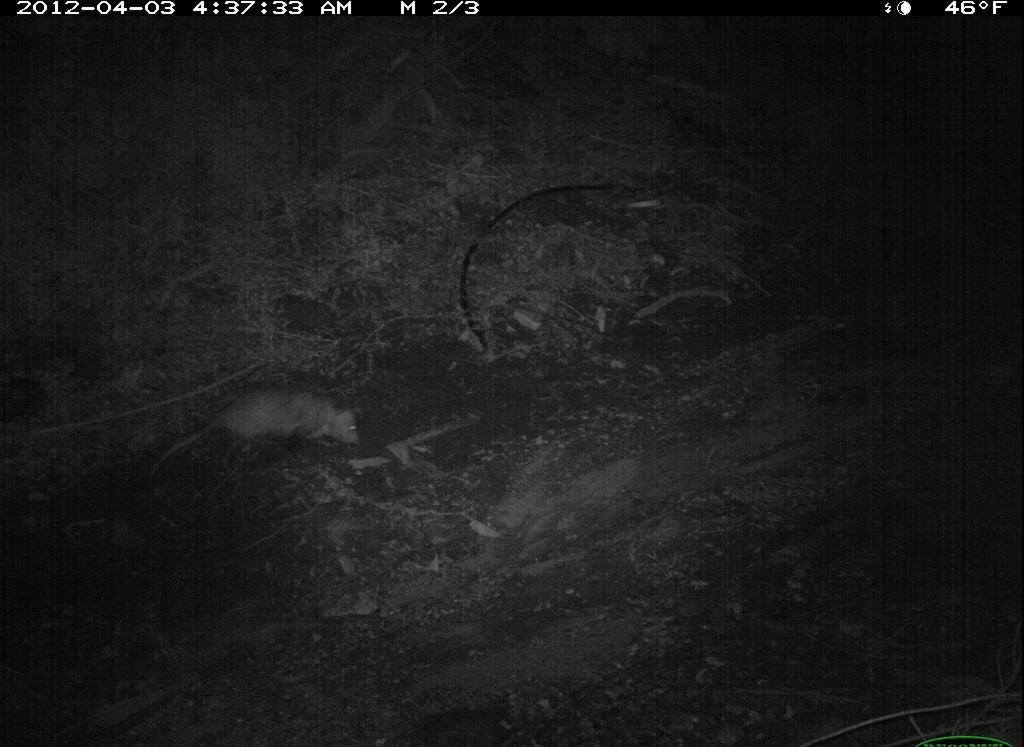opossum: (143, 378, 374, 488)
